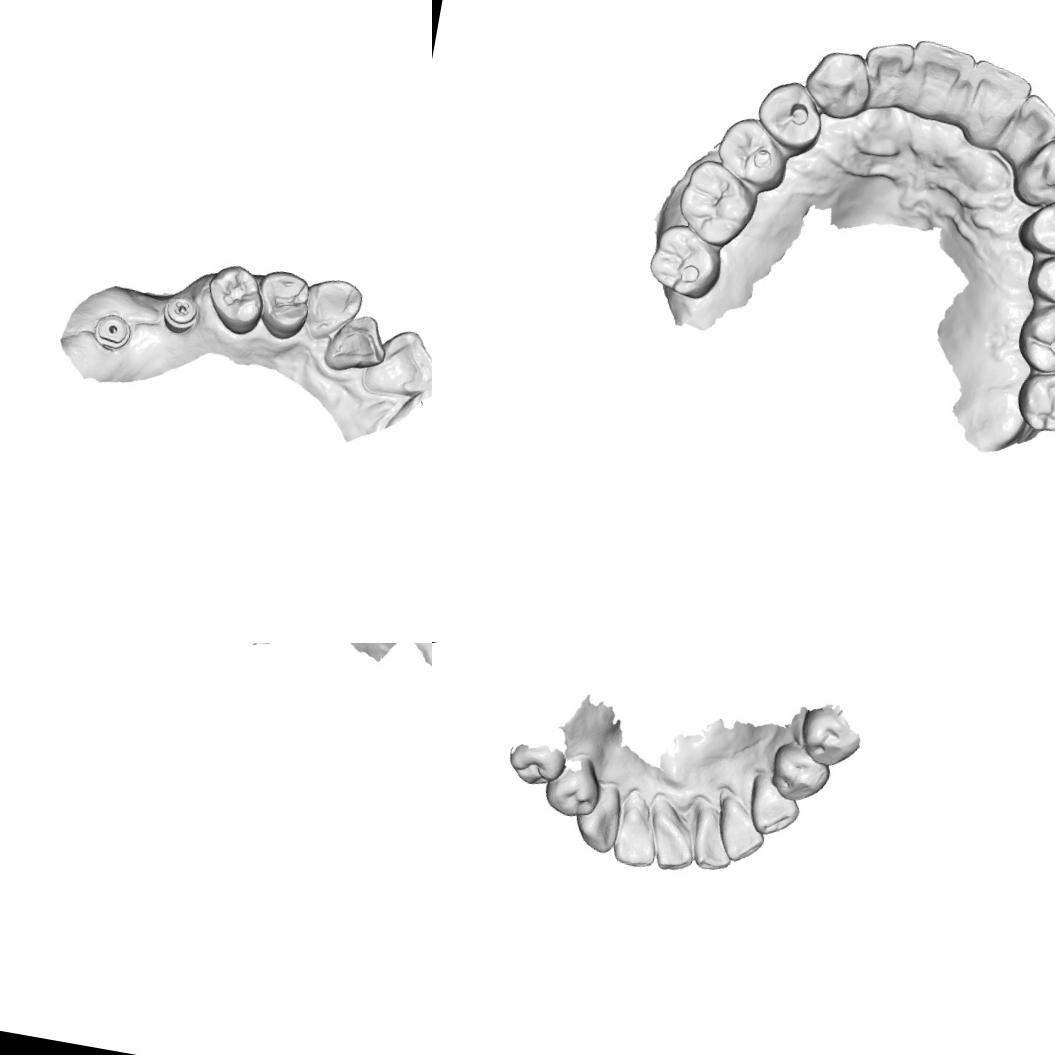canine: (799, 41, 876, 123), (297, 272, 367, 346), (742, 770, 803, 839), (572, 784, 625, 854), (1012, 129, 1055, 210)
implant: (90, 309, 134, 352)
implant_plus: (158, 290, 203, 338)
incisor: (898, 34, 980, 126), (960, 54, 1036, 142), (358, 321, 432, 406), (319, 307, 392, 380), (855, 33, 919, 115), (1001, 88, 1055, 160), (689, 803, 743, 875), (714, 798, 770, 867), (646, 810, 699, 878), (610, 803, 662, 870)
molar: (670, 152, 764, 252), (642, 218, 728, 303), (1013, 292, 1055, 382), (1011, 359, 1055, 439)
premolar: (708, 110, 792, 195), (748, 72, 828, 156), (199, 258, 270, 338), (250, 265, 314, 344), (765, 737, 832, 805), (795, 702, 860, 768), (540, 761, 604, 821), (500, 736, 568, 792), (1014, 188, 1055, 264), (1023, 244, 1055, 310)
